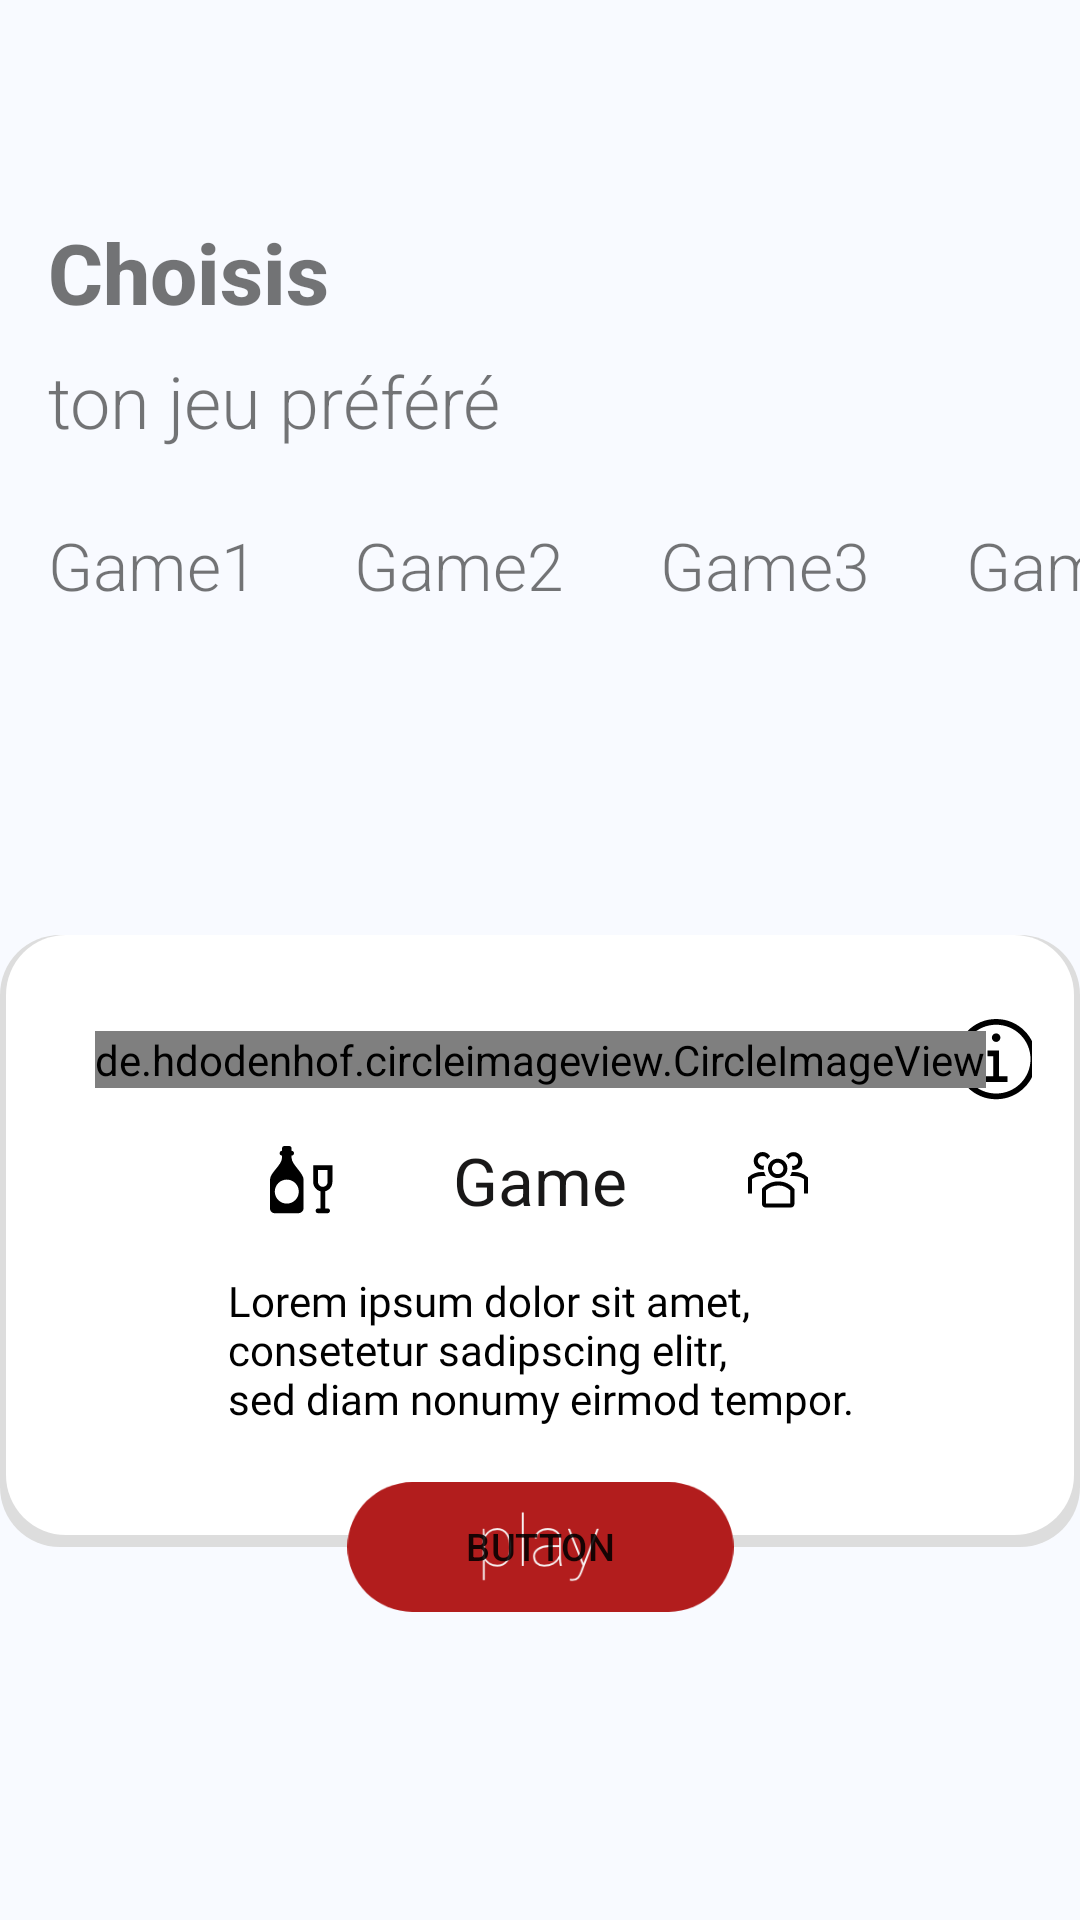

Icons on this 1080×1920 Android screen, each with its box as (x1, y1, x2, y2):
alcohol shop: (270, 1146, 333, 1214)
group line: (748, 1152, 808, 1208)
